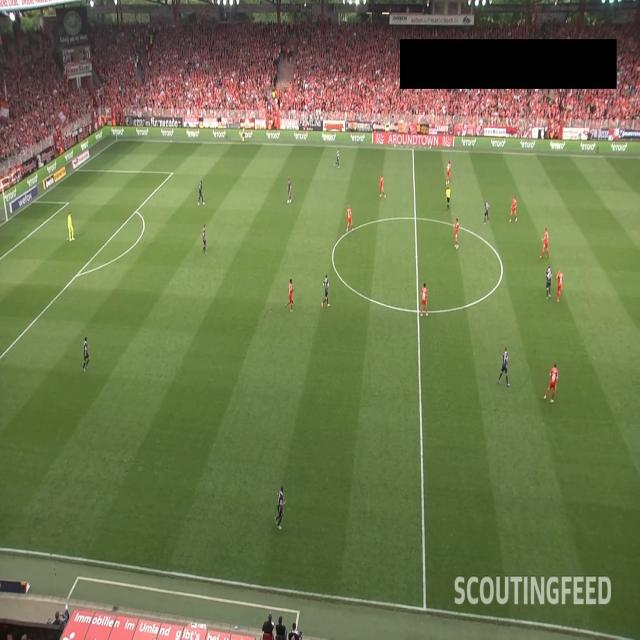ball: (286, 198, 290, 204)
